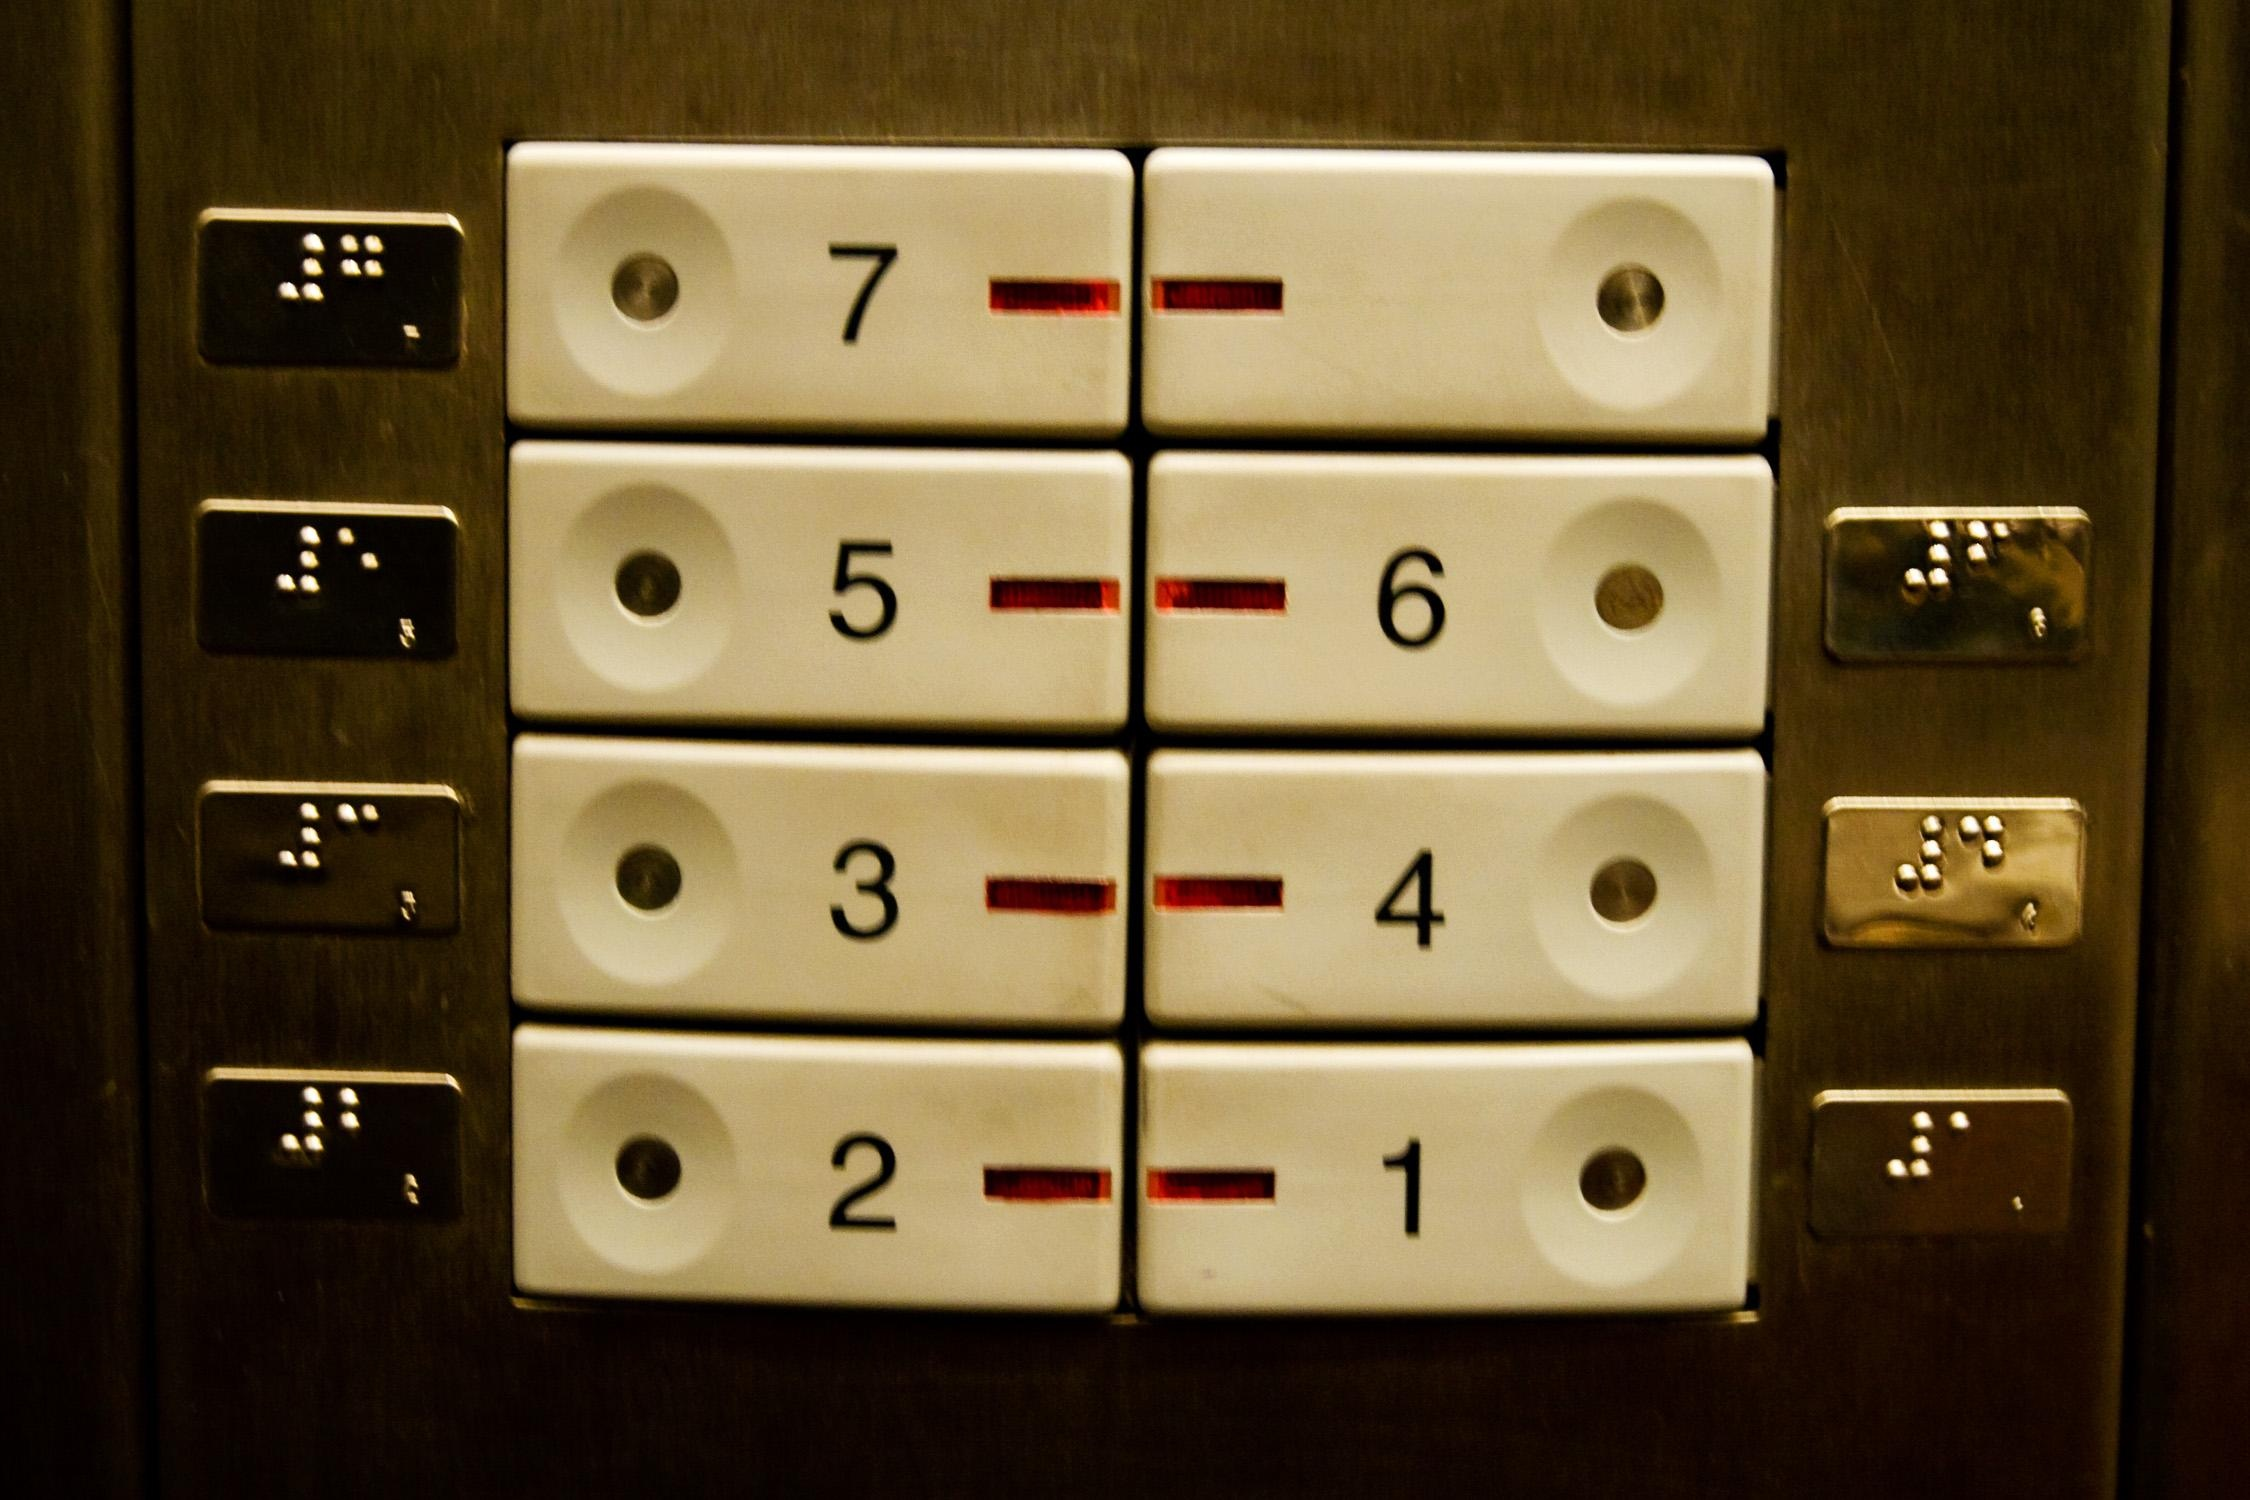1: (1123, 1015, 1781, 1331)
2: (487, 1009, 1128, 1328)
3: (487, 732, 1132, 1041)
4: (1130, 732, 1786, 1055)
5: (482, 430, 1128, 732)
6: (1127, 452, 1788, 755)
7: (485, 129, 1125, 450)
empty: (1127, 131, 1796, 450)
